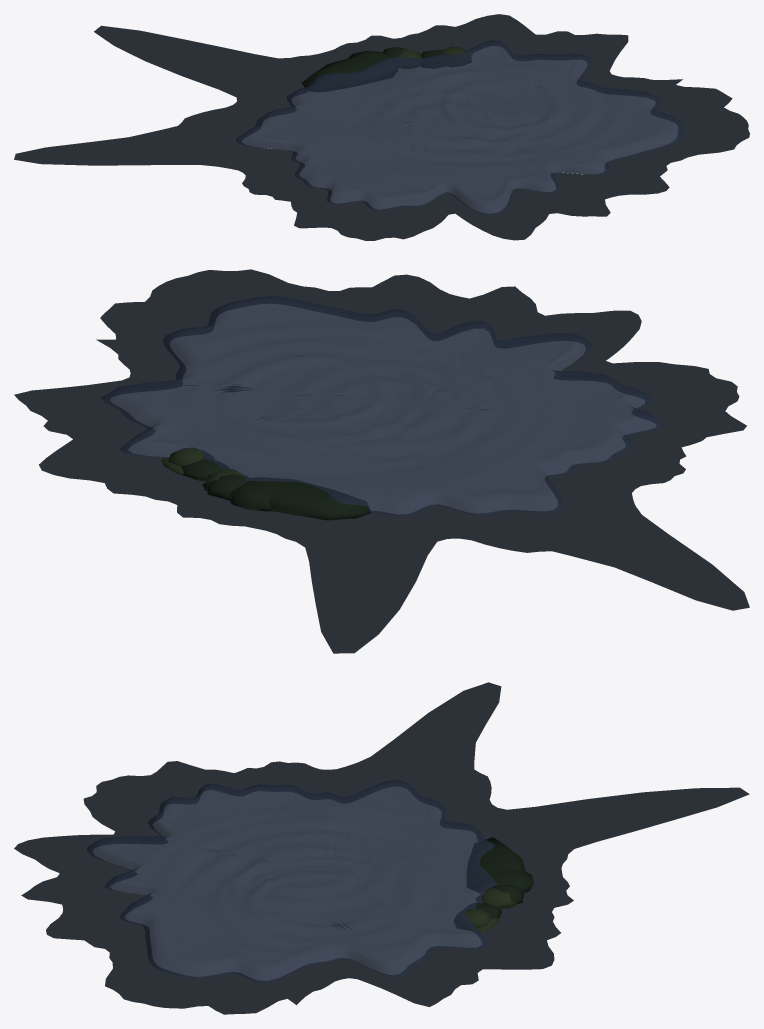
File: SM_Cripta_Poca_A.glb
3 views of the same model, one above another, from view 1: azimuth 30°, elevation 25°; view 2: azimuth 150°, elevation 25°; view 3: azimuth 270°, elevation 25° (orthographic). The views are drawn at different scales.
Visible parts, largest first — view 1: Agua, Anel, Limo; view 2: Agua, Anel, Limo; view 3: Agua, Anel, Limo.
Boxes of the visible parts, box(x1,y1,x2,y2) form: Agua: box(236, 40, 685, 215); Anel: box(14, 14, 749, 240); Limo: box(301, 46, 466, 87); Agua: box(101, 296, 664, 516); Anel: box(14, 269, 749, 653); Limo: box(161, 448, 371, 520); Agua: box(86, 780, 497, 982); Anel: box(14, 682, 749, 1014); Limo: box(464, 837, 533, 932).
Size of the model in its own units: 0.9611 by 0.0186 by 0.8996.
